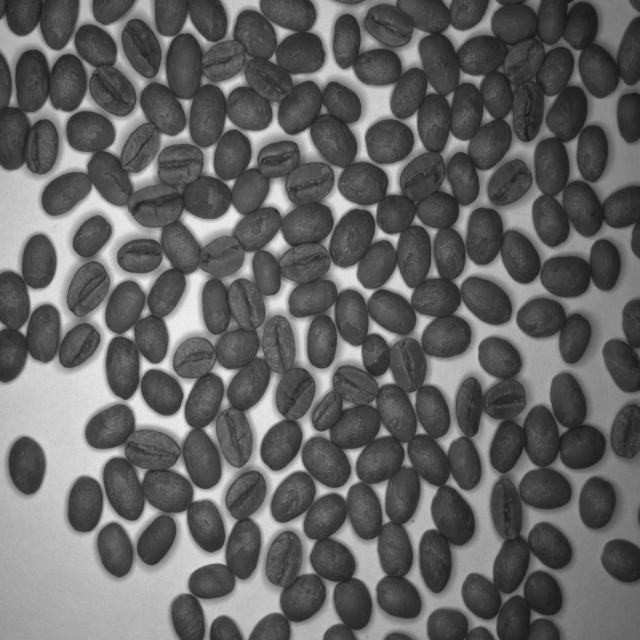bad: (128, 186, 190, 234), (272, 242, 338, 285), (400, 151, 449, 207), (397, 225, 436, 289), (360, 334, 394, 379)
good: (430, 480, 484, 553), (115, 18, 168, 90), (518, 453, 576, 516), (329, 201, 378, 273), (561, 176, 608, 250), (490, 526, 534, 605), (480, 367, 536, 429), (518, 397, 563, 474), (484, 471, 532, 543), (522, 563, 576, 627), (328, 154, 394, 206), (211, 405, 260, 475), (573, 473, 623, 541), (414, 34, 466, 98), (87, 64, 144, 122), (295, 434, 352, 492), (545, 368, 594, 435), (180, 368, 231, 432), (101, 332, 145, 406), (138, 364, 192, 424), (117, 425, 181, 475), (102, 457, 152, 521), (552, 414, 602, 478), (239, 52, 296, 108), (277, 76, 325, 142), (459, 562, 507, 628), (224, 464, 273, 528), (420, 313, 475, 370), (272, 568, 329, 623), (373, 574, 430, 629), (528, 188, 574, 256), (179, 426, 226, 492), (596, 331, 640, 401), (64, 260, 112, 324), (446, 431, 491, 499), (418, 526, 459, 600), (165, 33, 207, 105), (231, 7, 285, 63), (306, 113, 362, 167), (283, 156, 337, 212), (371, 520, 419, 583), (141, 467, 198, 520), (535, 250, 594, 301), (228, 203, 288, 253), (404, 274, 466, 322), (183, 173, 237, 228), (213, 321, 267, 376), (7, 431, 47, 505), (528, 518, 578, 577), (485, 156, 539, 210), (186, 82, 228, 151), (374, 382, 421, 443), (328, 402, 382, 455), (555, 304, 597, 372), (81, 400, 138, 450), (268, 469, 318, 526), (329, 576, 378, 634), (366, 286, 418, 340), (460, 276, 512, 330), (384, 458, 424, 528), (407, 432, 456, 489), (258, 416, 306, 474), (198, 276, 240, 342), (512, 75, 548, 152), (168, 330, 220, 383), (226, 163, 278, 216), (224, 87, 274, 142), (226, 354, 276, 409), (327, 363, 383, 412), (51, 50, 88, 124), (260, 305, 295, 383), (485, 413, 527, 478), (144, 262, 191, 320), (92, 519, 138, 578), (531, 130, 572, 196), (464, 203, 505, 269), (365, 4, 419, 54), (458, 32, 512, 82), (545, 84, 589, 145), (579, 44, 626, 101), (309, 534, 362, 584), (447, 80, 487, 146), (352, 434, 407, 482), (267, 527, 305, 596), (362, 120, 417, 167), (134, 514, 181, 569), (132, 311, 177, 368), (64, 474, 104, 538), (26, 303, 66, 367), (348, 476, 386, 543), (516, 292, 569, 340), (160, 223, 207, 277), (474, 334, 528, 381), (224, 518, 263, 583), (36, 171, 91, 217), (105, 278, 147, 338), (187, 498, 232, 554), (198, 35, 248, 85), (333, 286, 372, 350), (468, 118, 516, 170), (416, 89, 453, 156), (59, 320, 101, 379), (275, 363, 317, 422), (595, 536, 640, 591), (433, 226, 472, 289), (415, 380, 454, 443), (158, 139, 206, 190), (320, 77, 366, 130), (89, 150, 131, 208), (284, 202, 338, 247), (392, 334, 431, 396), (606, 397, 640, 468), (284, 277, 340, 320), (306, 489, 349, 545), (200, 231, 250, 279), (278, 28, 328, 76), (121, 123, 162, 181), (28, 115, 61, 187), (144, 83, 188, 137), (454, 369, 486, 442), (22, 224, 56, 292), (210, 126, 252, 181), (184, 560, 239, 602), (330, 12, 366, 76), (388, 65, 428, 122), (354, 237, 394, 294), (499, 223, 538, 281), (228, 278, 268, 334), (573, 120, 609, 182), (117, 231, 165, 277), (63, 108, 114, 151), (590, 234, 623, 298), (447, 150, 483, 208), (257, 135, 303, 180), (375, 189, 422, 233), (355, 49, 405, 90), (505, 40, 549, 86), (534, 49, 577, 96), (480, 66, 516, 122), (307, 387, 346, 438), (418, 188, 464, 231), (304, 314, 338, 371), (74, 214, 113, 262), (172, 591, 209, 640), (251, 248, 283, 302)
